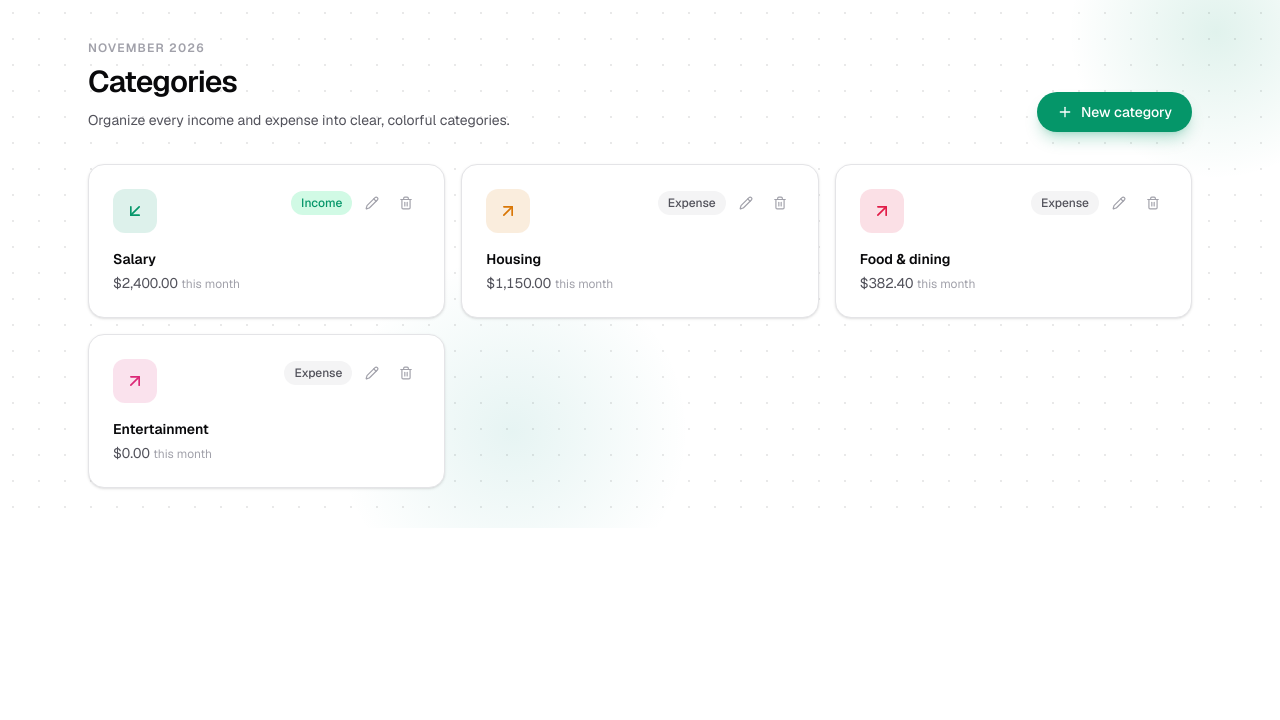
CategoriesView › deletes an unused category without touching any transactions
The width and height of the screenshot is (1280, 720).
Step 1. Click the button named "Delete Entertainment" → (406, 373), box [392,359,420,387]
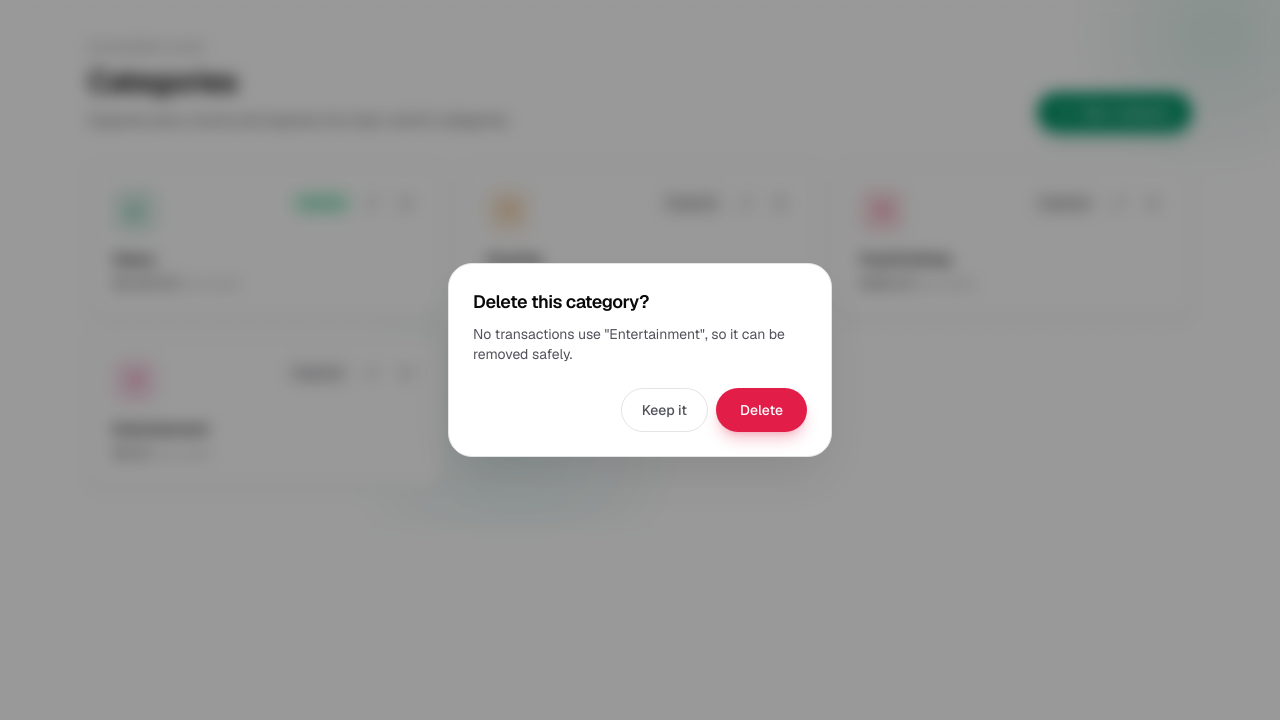
Now the text "No transactions use \"Entertainment\", so it can be removed safely." is shown, box [473,324,807,364]
Step 2. Click the button "Delete" → (761, 410), box [716,388,807,432]
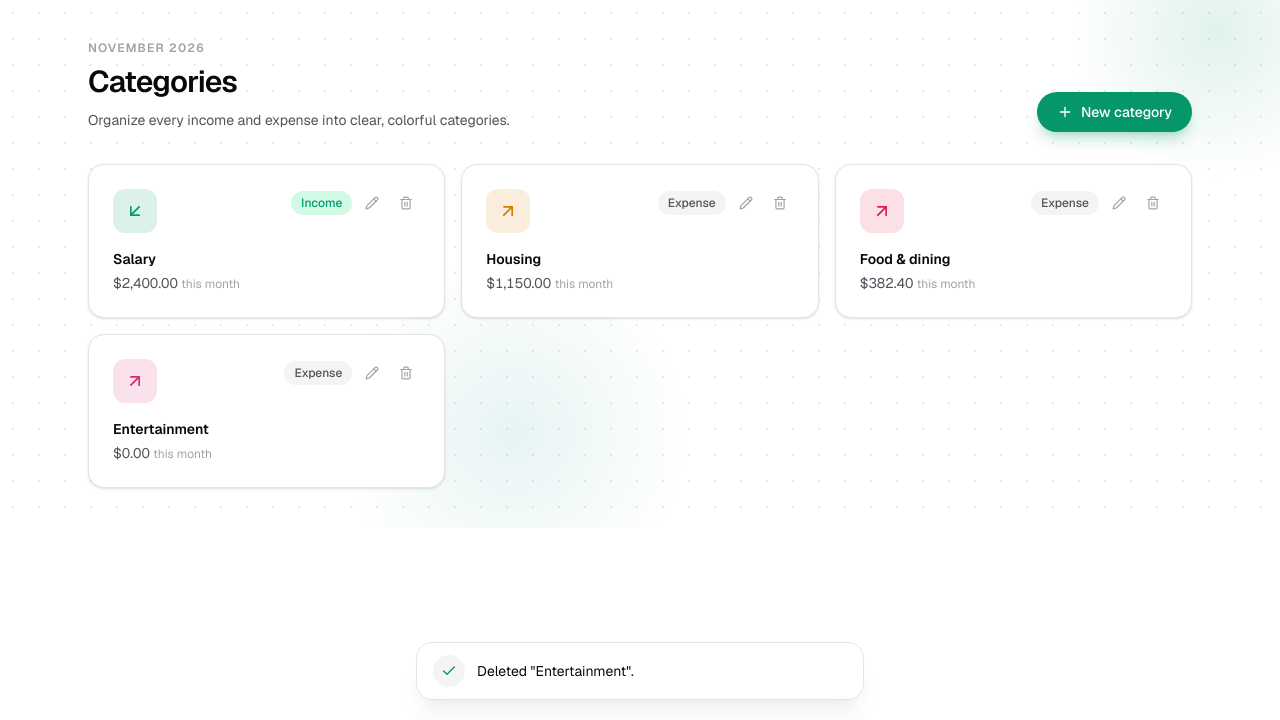
Now the message reads "Deleted \"Entertainment\".", box [477,662,634,680]
